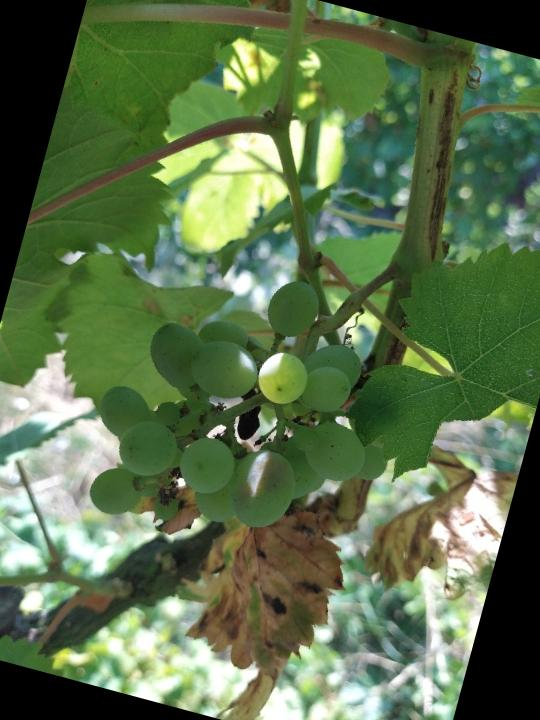grape: (72, 238, 431, 584)
